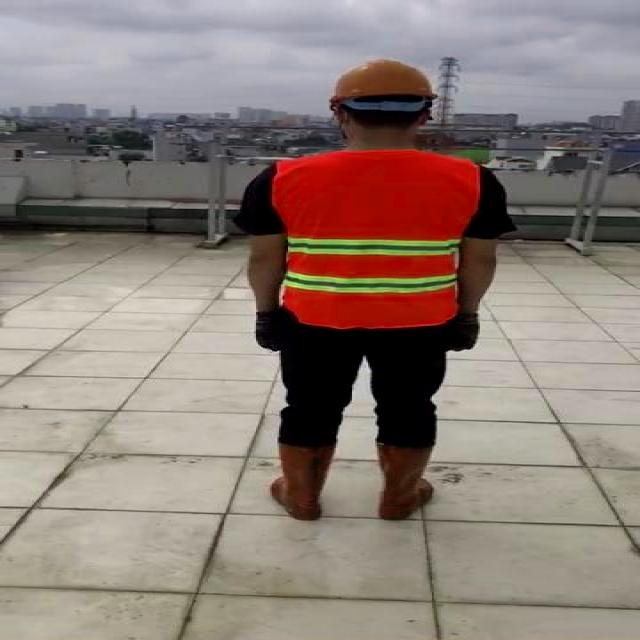boots: (268, 442, 336, 521), (375, 442, 437, 521)
hand_glove: (444, 312, 476, 352), (252, 312, 282, 353)
head_helmet: (325, 57, 441, 107)
person: (230, 58, 511, 526)
vest: (274, 151, 482, 326)
